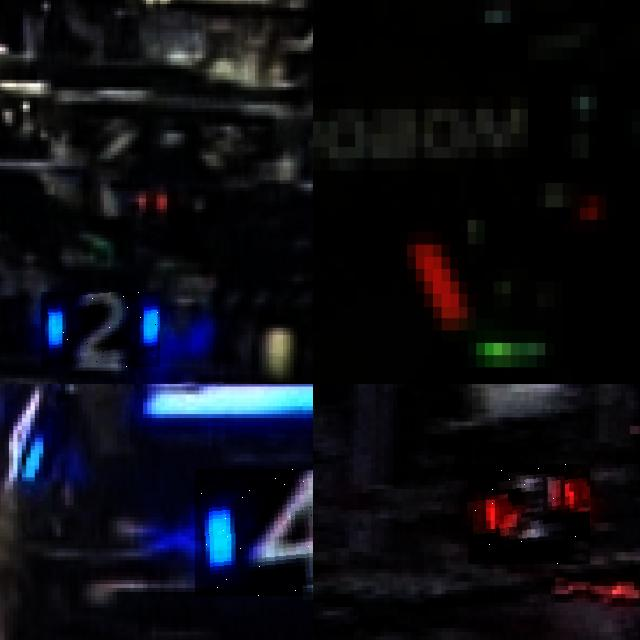B2: (41, 292, 160, 367)
B4: (195, 469, 313, 595)
R2: (468, 464, 590, 564)
